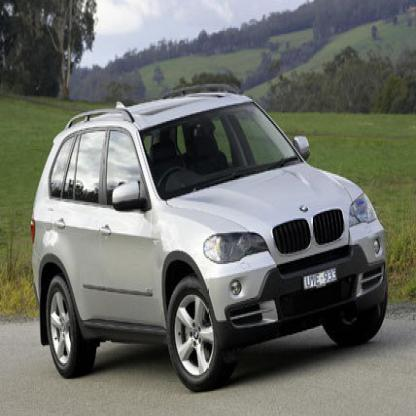Vehicle: (21, 66, 402, 398)
